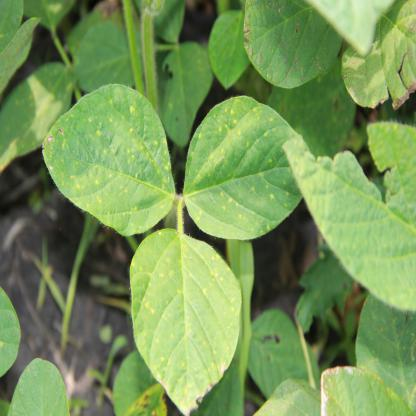Soyabean leaf: (127, 228, 243, 416), (40, 82, 178, 239), (184, 94, 314, 242)
